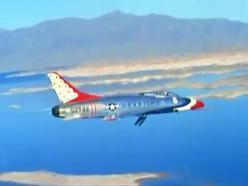aircraft: (48, 71, 206, 120)
